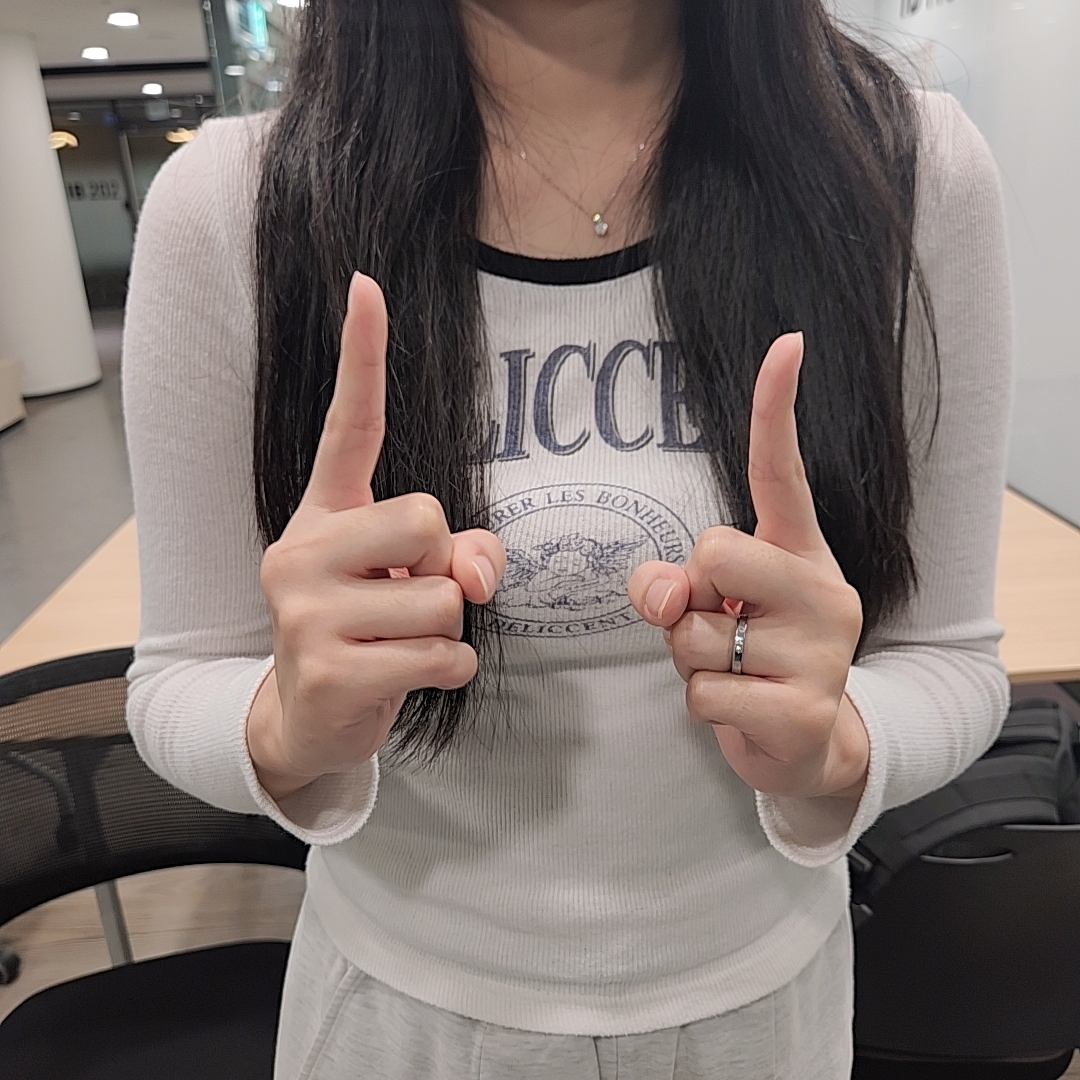meet: (258, 273, 864, 803)
